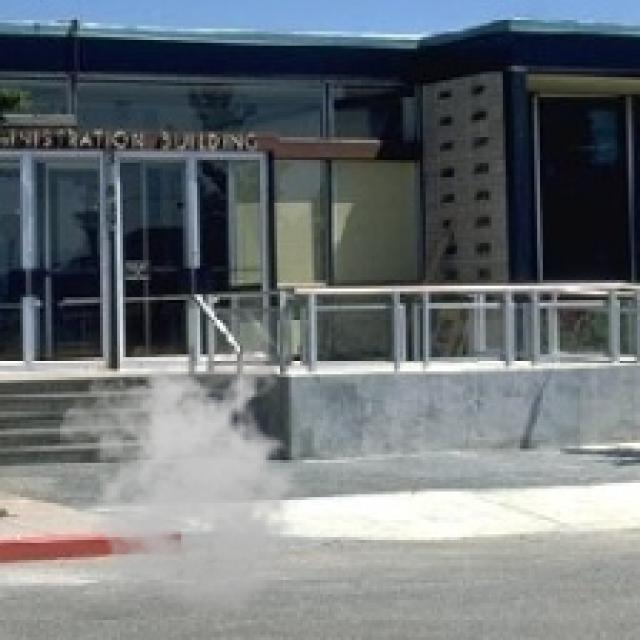Smoke: (60, 346, 323, 618)
